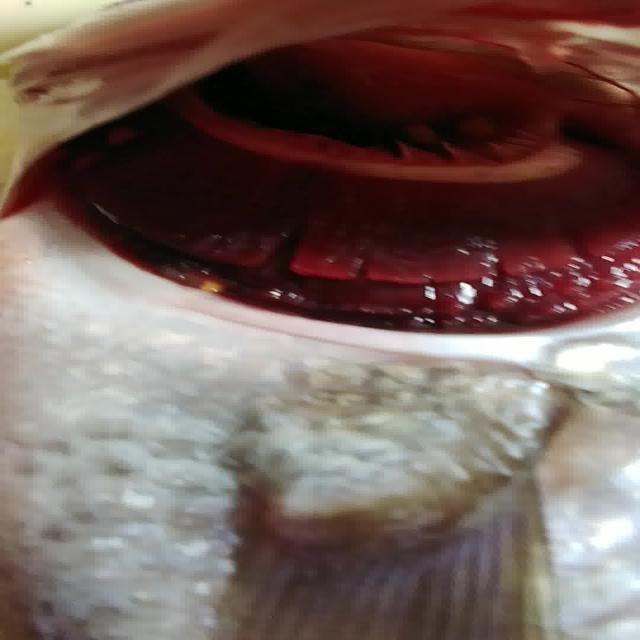Fresh: (24, 58, 637, 350)
